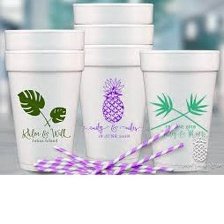paper_cup: (68, 0, 157, 166), (0, 22, 89, 174), (134, 43, 223, 174)
